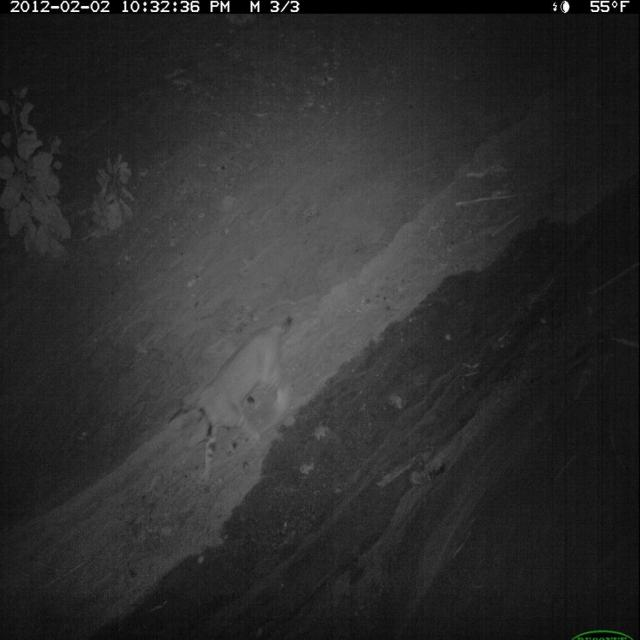bobcat: (179, 317, 298, 490)
